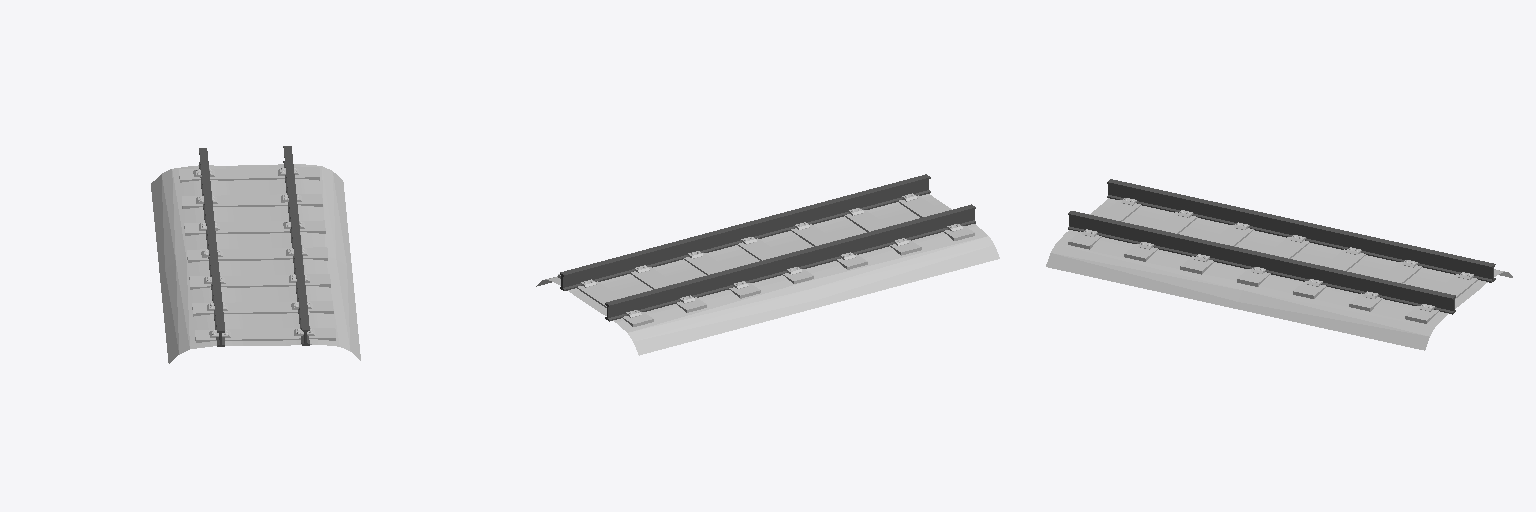
Rendered from tracks3.obj.
The picture shows the model from 3 angles: view 1: azimuth 30°, elevation 25°; view 2: azimuth 150°, elevation 25°; view 3: azimuth 270°, elevation 25°; orthographic projection.
Visible parts, largest first — view 1: modular_track_1.001_Cube.001; view 2: modular_track_1.001_Cube.001; view 3: modular_track_1.001_Cube.001.
Part boxes in pixels (left/top/right/bottom): modular_track_1.001_Cube.001: left=151, top=146, right=360, bottom=363; modular_track_1.001_Cube.001: left=536, top=174, right=999, bottom=355; modular_track_1.001_Cube.001: left=1046, top=179, right=1512, bottom=350.
Bounding box in the file's own units: 1.85 × 0.1858 × 2.35.